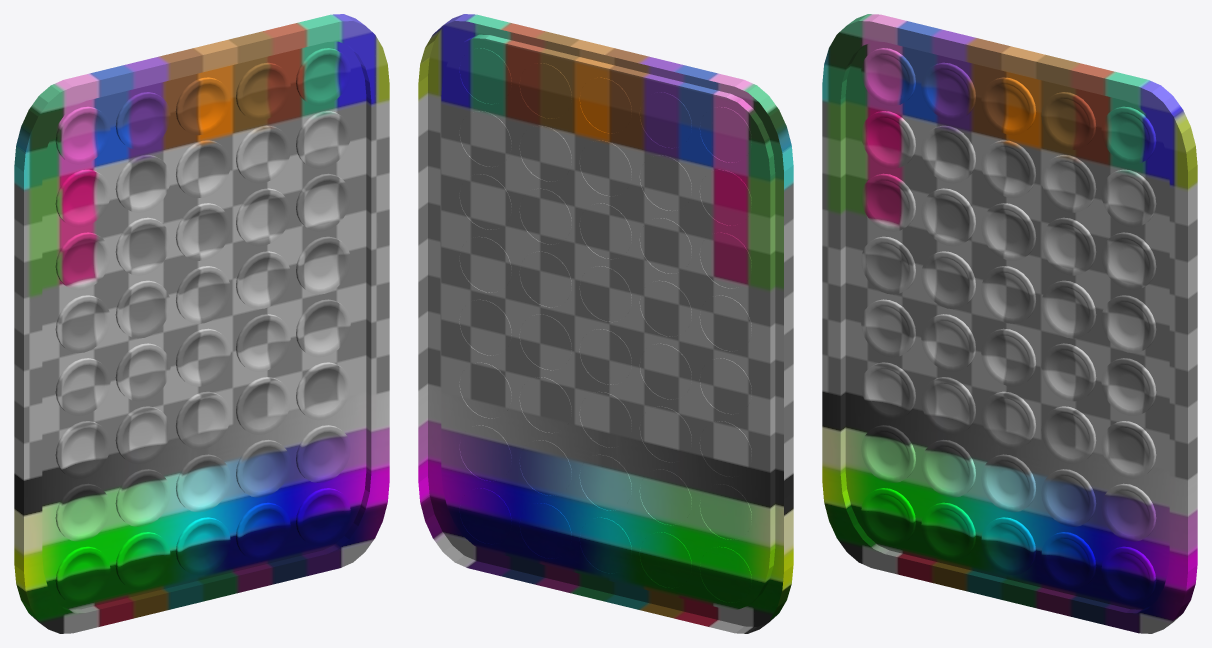
File: PopIt.fbx
3 views of the same model, side by side, from view 1: azimuth 30°, elevation 25°; view 2: azimuth 150°, elevation 25°; view 3: azimuth 330°, elevation 25° (orthographic).
Visible parts, largest first — view 1: Cube; view 2: Cube; view 3: Cube.
Part boxes in pixels (<box>): Cube: <box>14,14,389,633</box>; Cube: <box>418,14,793,633</box>; Cube: <box>822,14,1197,633</box>.
Bounding box in the file's own units: 120 × 172 × 5.41.
